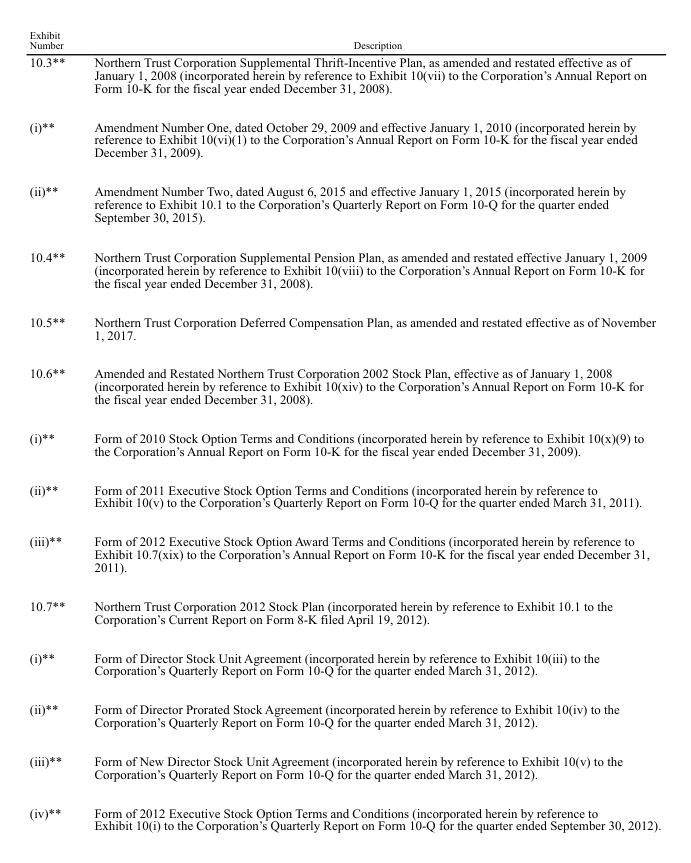table: (28, 28, 660, 832)
table column: (78, 28, 660, 832), (28, 28, 78, 832)
table column header: (28, 28, 660, 52)
table row: (28, 106, 660, 171), (28, 171, 660, 236), (28, 236, 660, 301), (28, 353, 660, 418), (28, 521, 660, 586), (28, 52, 660, 106), (28, 301, 660, 353), (28, 469, 660, 521), (28, 637, 660, 689), (28, 689, 660, 741), (28, 418, 660, 469), (28, 586, 660, 637), (28, 741, 660, 792), (28, 792, 660, 832), (28, 28, 660, 52)
